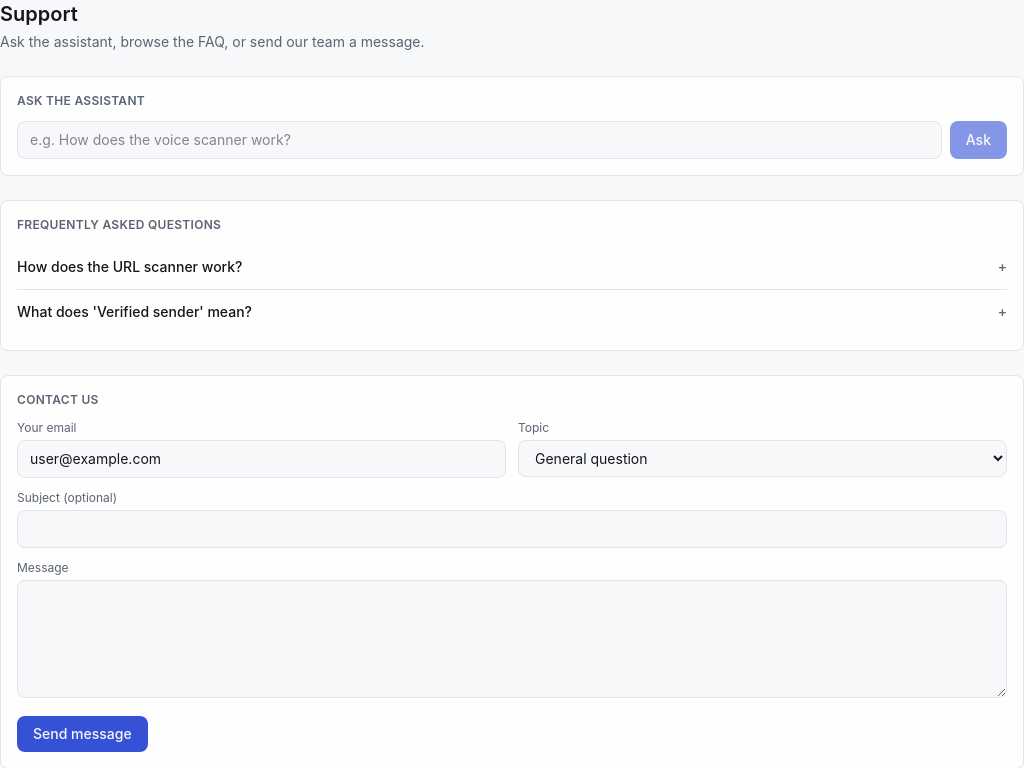
it: the contact form posts a ticket and confirms
This screenshot has width=1024, height=768.
Replace the text in the field labelled "Your email" with "me@example.com". click: (262,459)
box: 17,440 -> 506,478
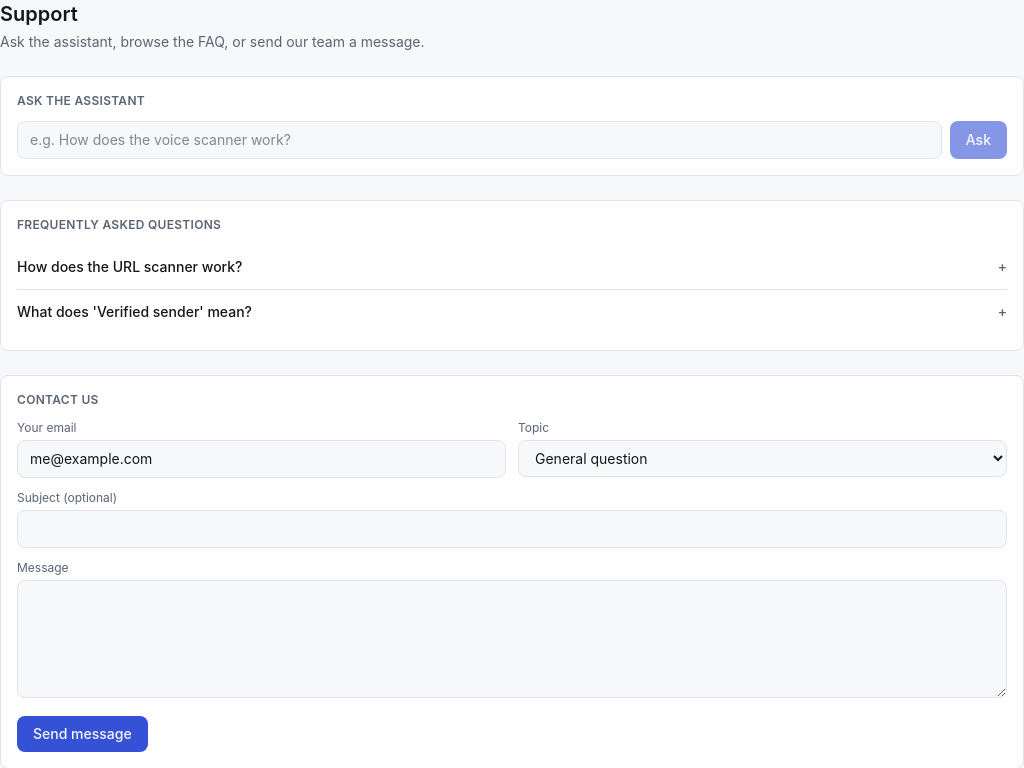
Type "Please help with a suspicious SMS." into the text box labelled "Message". click: (512,639)
box: 17,580 -> 1007,698
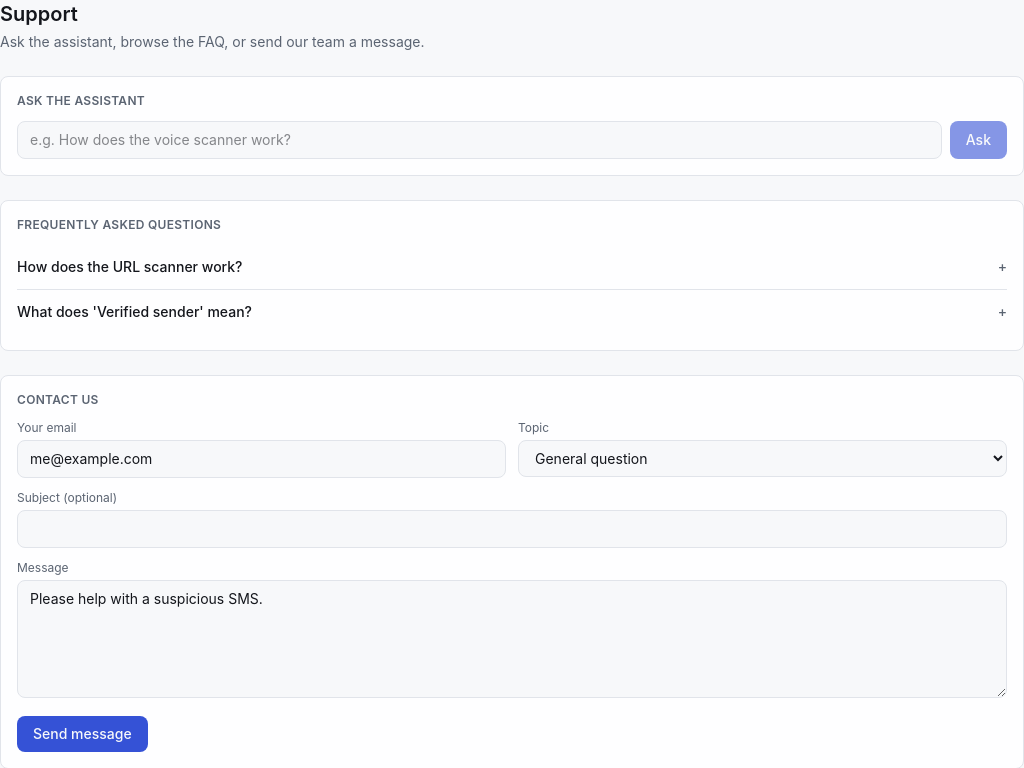
Click the button "Send message". click: (82,734)
box: 17,716 -> 148,752
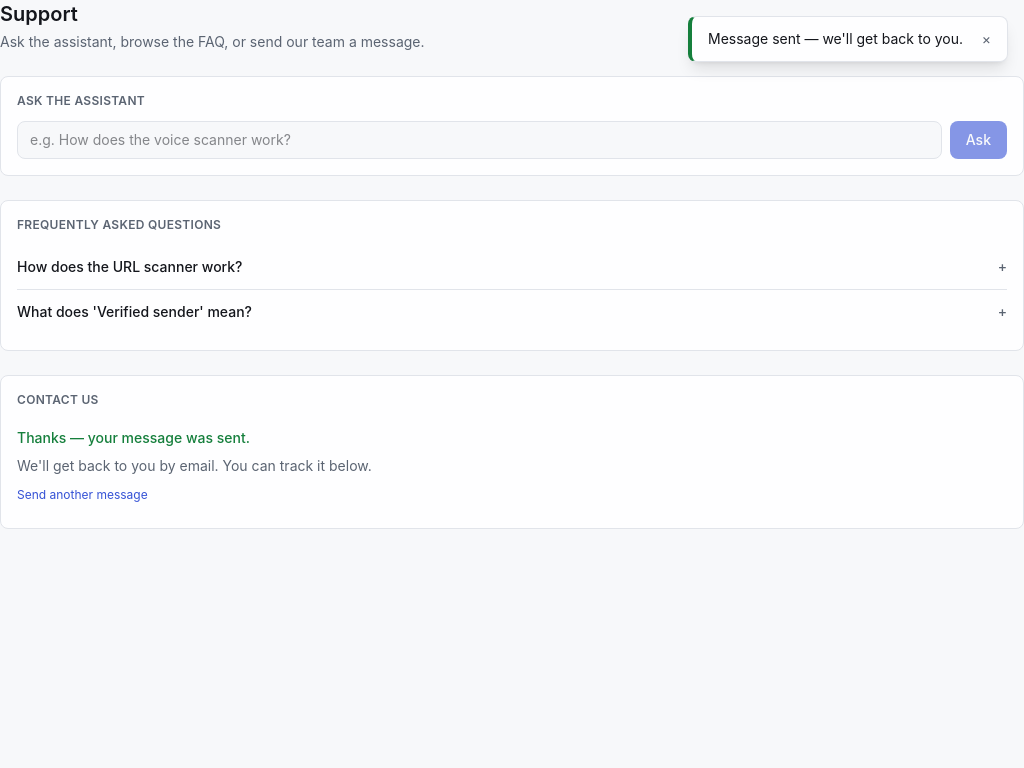
Check: the text "Thanks — your message was sent." is shown, box 17,429 -> 250,446
